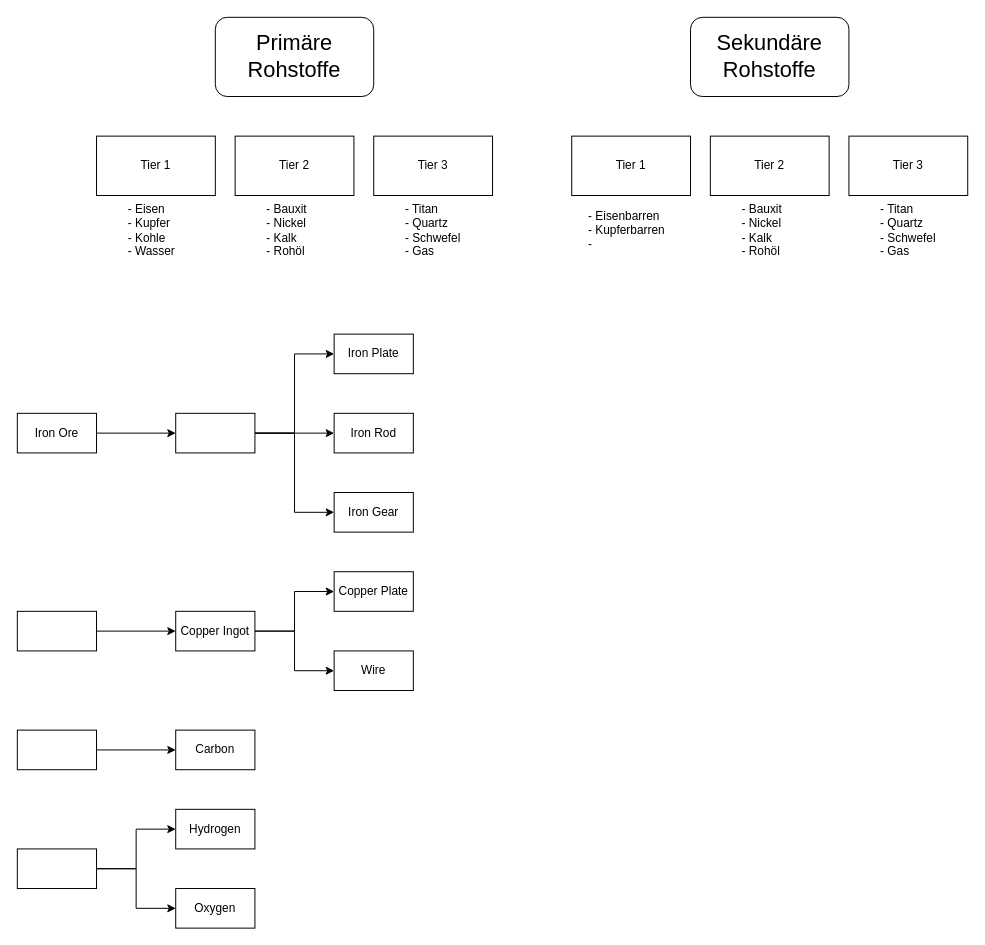
The diagram is 985 pixels wide and 945 high, and some of its shapes have lost their labels. The box of each missing label's shape, as (x1, y1, x2, y2) in pixels:
Coal: (16, 729, 97, 770)
Copper Ore: (16, 610, 97, 651)
Iron Ingot: (175, 412, 255, 453)
Water: (16, 848, 97, 889)
